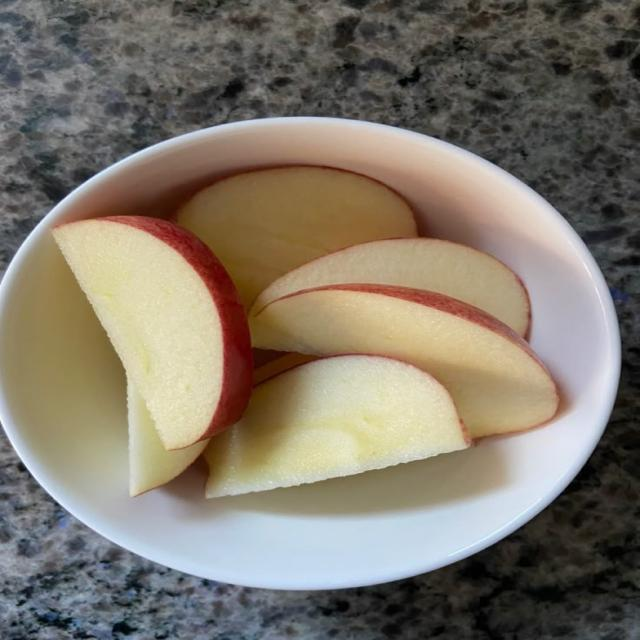apple: (250, 284, 558, 437), (54, 216, 253, 450), (205, 355, 469, 497), (175, 167, 416, 307), (250, 238, 530, 335), (127, 382, 208, 497), (254, 353, 316, 384)
